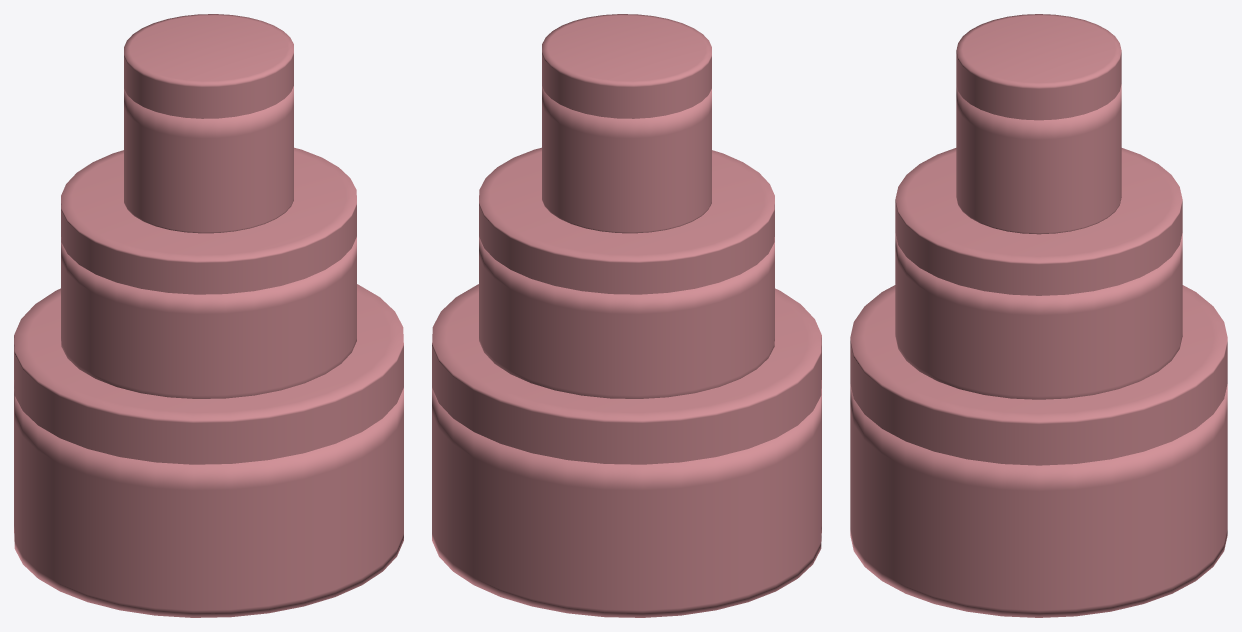
Rendered from 3-tier-blush-none-none.glb.
3 renders of one model, left to right at view 1: azimuth 30°, elevation 25°; view 2: azimuth 150°, elevation 25°; view 3: azimuth 270°, elevation 25°, orthographic.
Visible parts, largest first — view 1: Cylinder.022, Cylinder.014, Cylinder.021; view 2: Cylinder.022, Cylinder.014, Cylinder.021; view 3: Cylinder.022, Cylinder.014, Cylinder.021.
Boxes of the visible parts, left/top/right/bottom form: Cylinder.022: left=14, top=284, right=403, bottom=617; Cylinder.014: left=61, top=147, right=356, bottom=398; Cylinder.021: left=124, top=14, right=293, bottom=233; Cylinder.022: left=432, top=284, right=821, bottom=617; Cylinder.014: left=479, top=147, right=774, bottom=398; Cylinder.021: left=542, top=14, right=711, bottom=233; Cylinder.022: left=850, top=285, right=1227, bottom=617; Cylinder.014: left=895, top=148, right=1182, bottom=399; Cylinder.021: left=956, top=14, right=1121, bottom=234.
Size of the model in its own units: 4.22 by 5.76 by 4.06.
